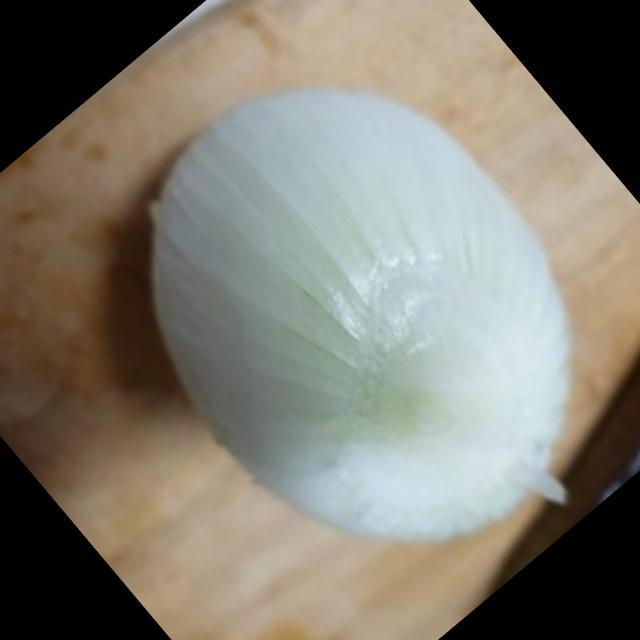Onion: (150, 91, 571, 540)
